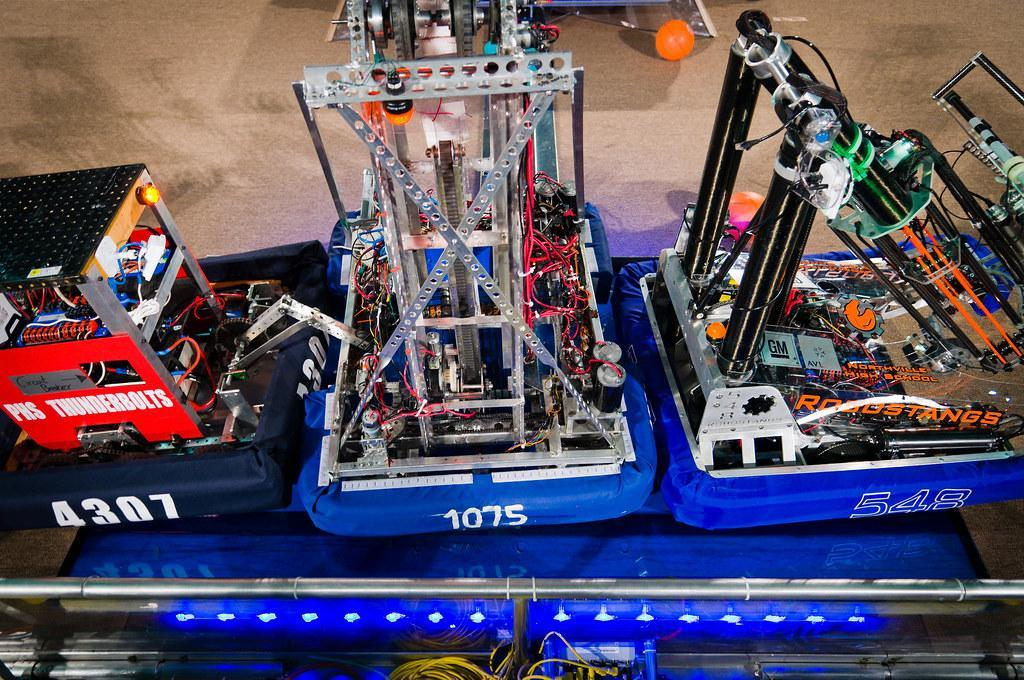robot: (613, 4, 1024, 546), (296, 0, 662, 546), (0, 126, 339, 529)
